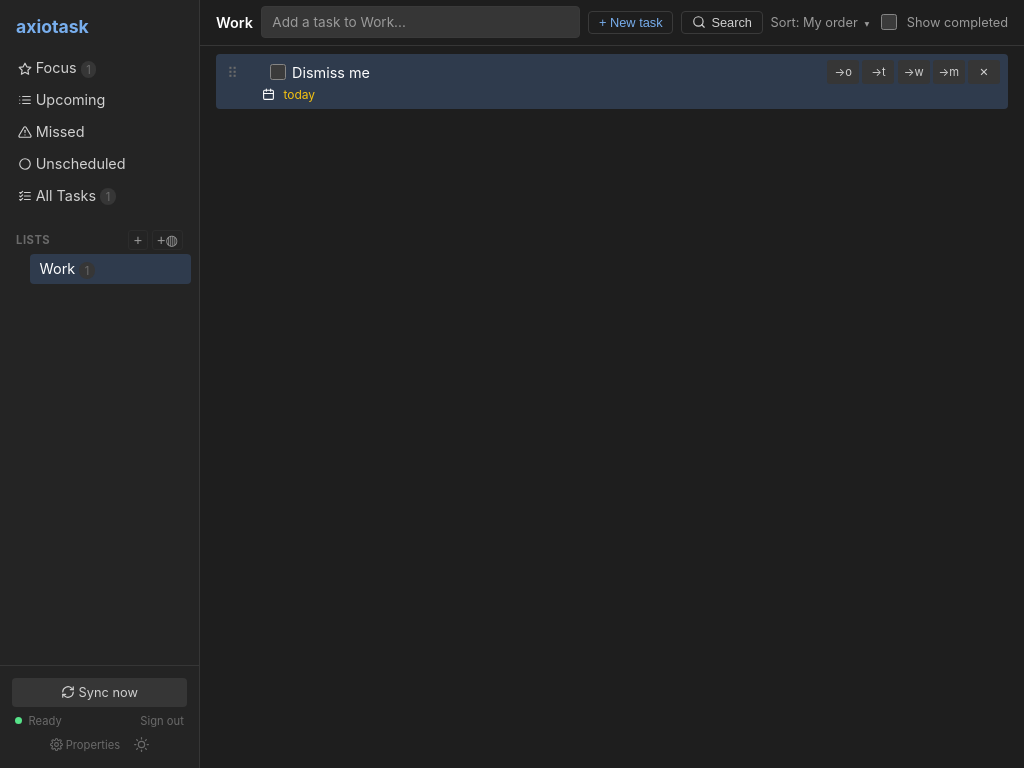
Test case: GH#12: Delete task with undo › Undo toast (30s) › dismiss button removes undo toast immediately
Expected: the text "Dismiss me" is shown, left=292, top=64, right=370, bottom=81
Press d
Wait 200 ms
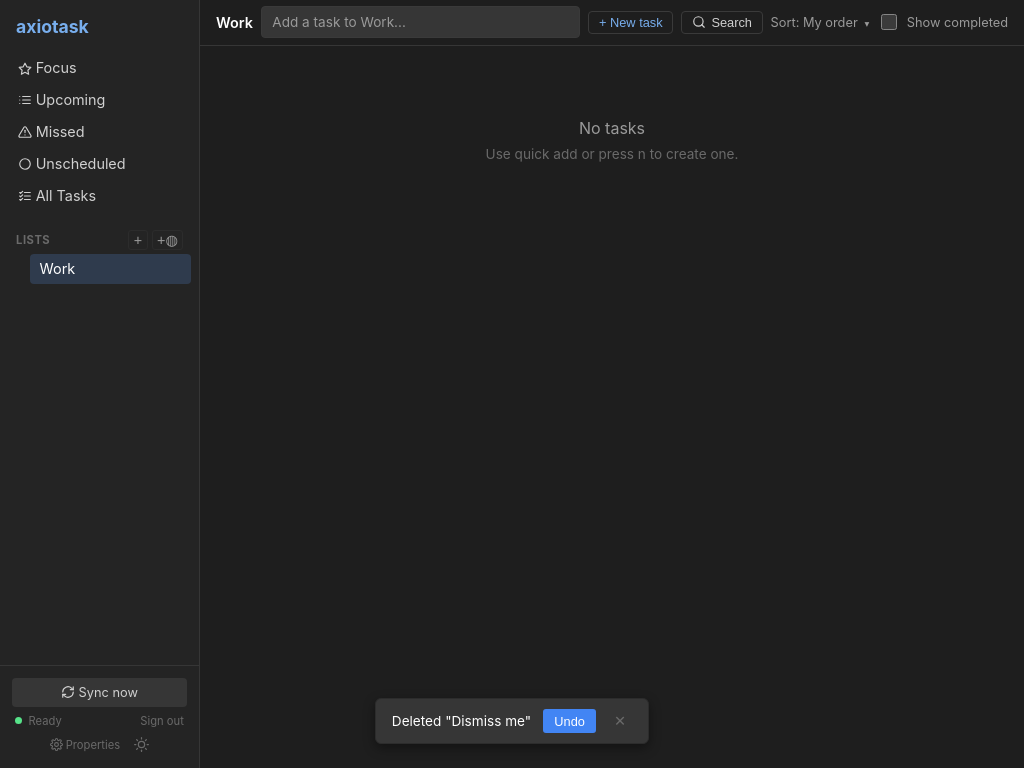
Expected: the text "Deleted \"Dismiss me\"" is shown, left=392, top=713, right=531, bottom=729
Click the button named "Dismiss". click: click(620, 721)
box: left=608, top=712, right=632, bottom=730
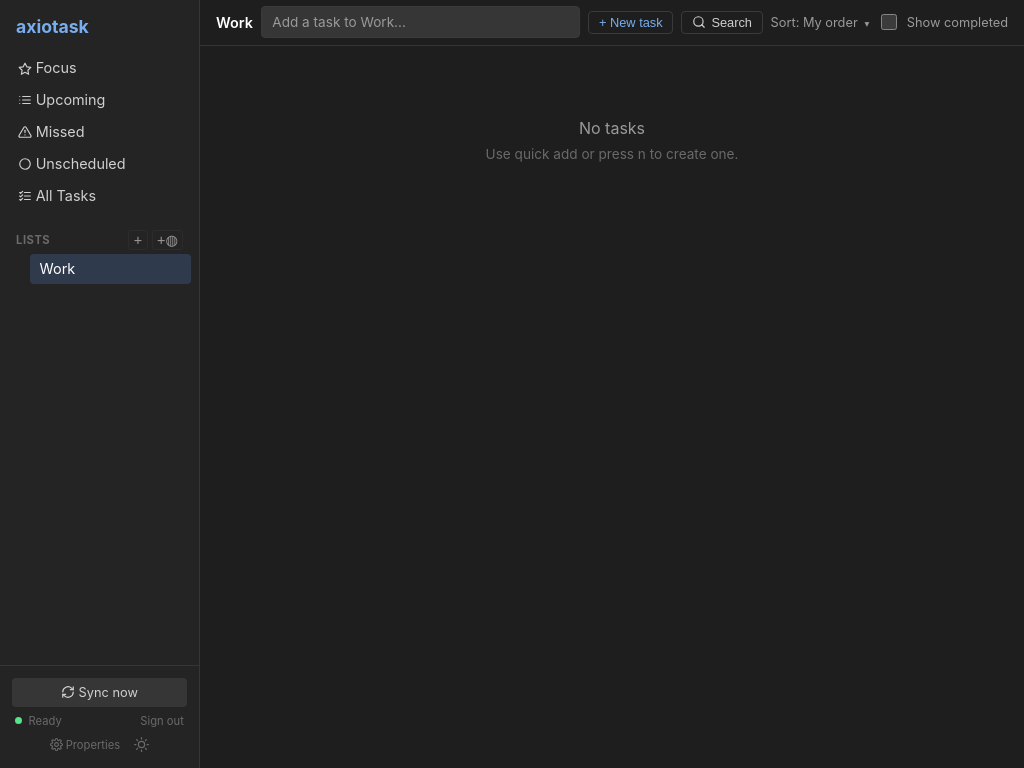
Expected: the text "Deleted \"Dismiss me\"" is gone
